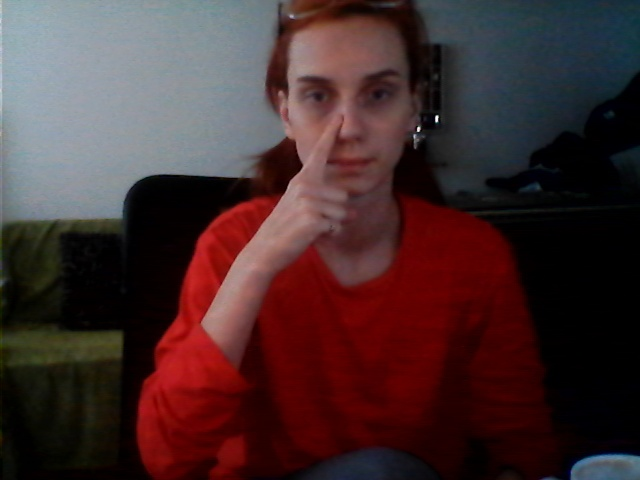mama: (301, 115, 356, 243)
